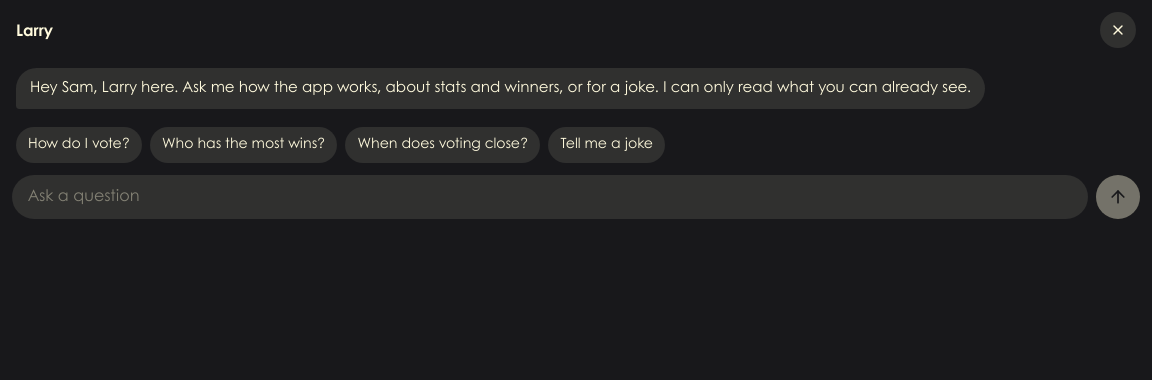
Test case: Ask Larry panel › sends a tapped suggestion, shows the reply as a link button, and the counter
The width and height of the screenshot is (1152, 380).
What coordinates should you click on to do the following:
click the button "How do I vote?"
I would click on:
 (79, 145)
Its box is 16,127 -> 142,163.
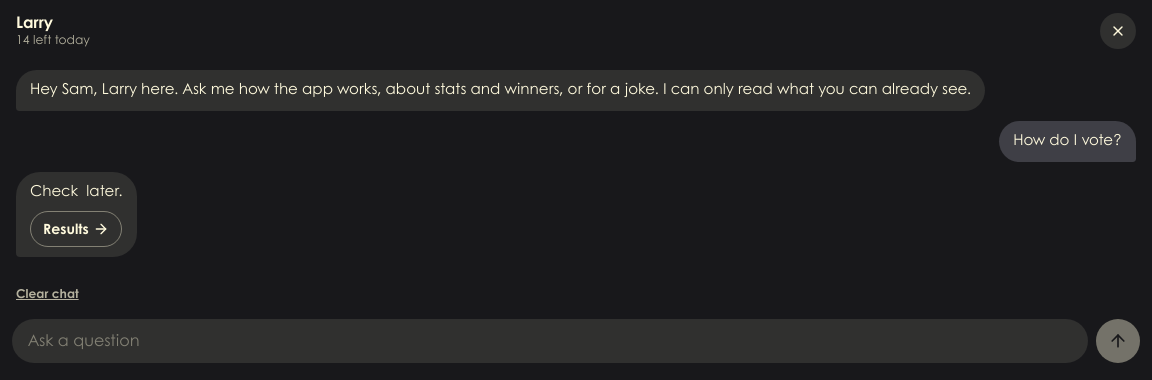
Check: the link "Results" is shown, box 30,211 -> 122,247
Check: the text "14 left today" is shown, box 16,33 -> 90,50
